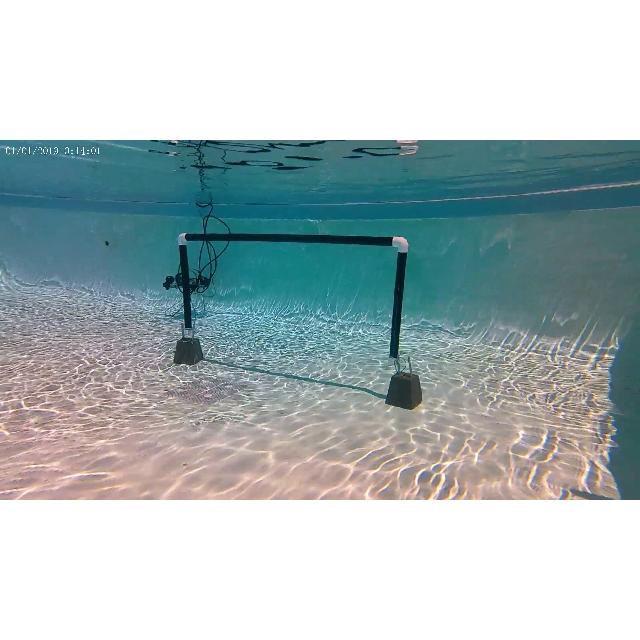prequal gate: (179, 231, 409, 365)
prequal gate leg l: (176, 232, 198, 336)
prequal gate leg r: (383, 232, 409, 366)
